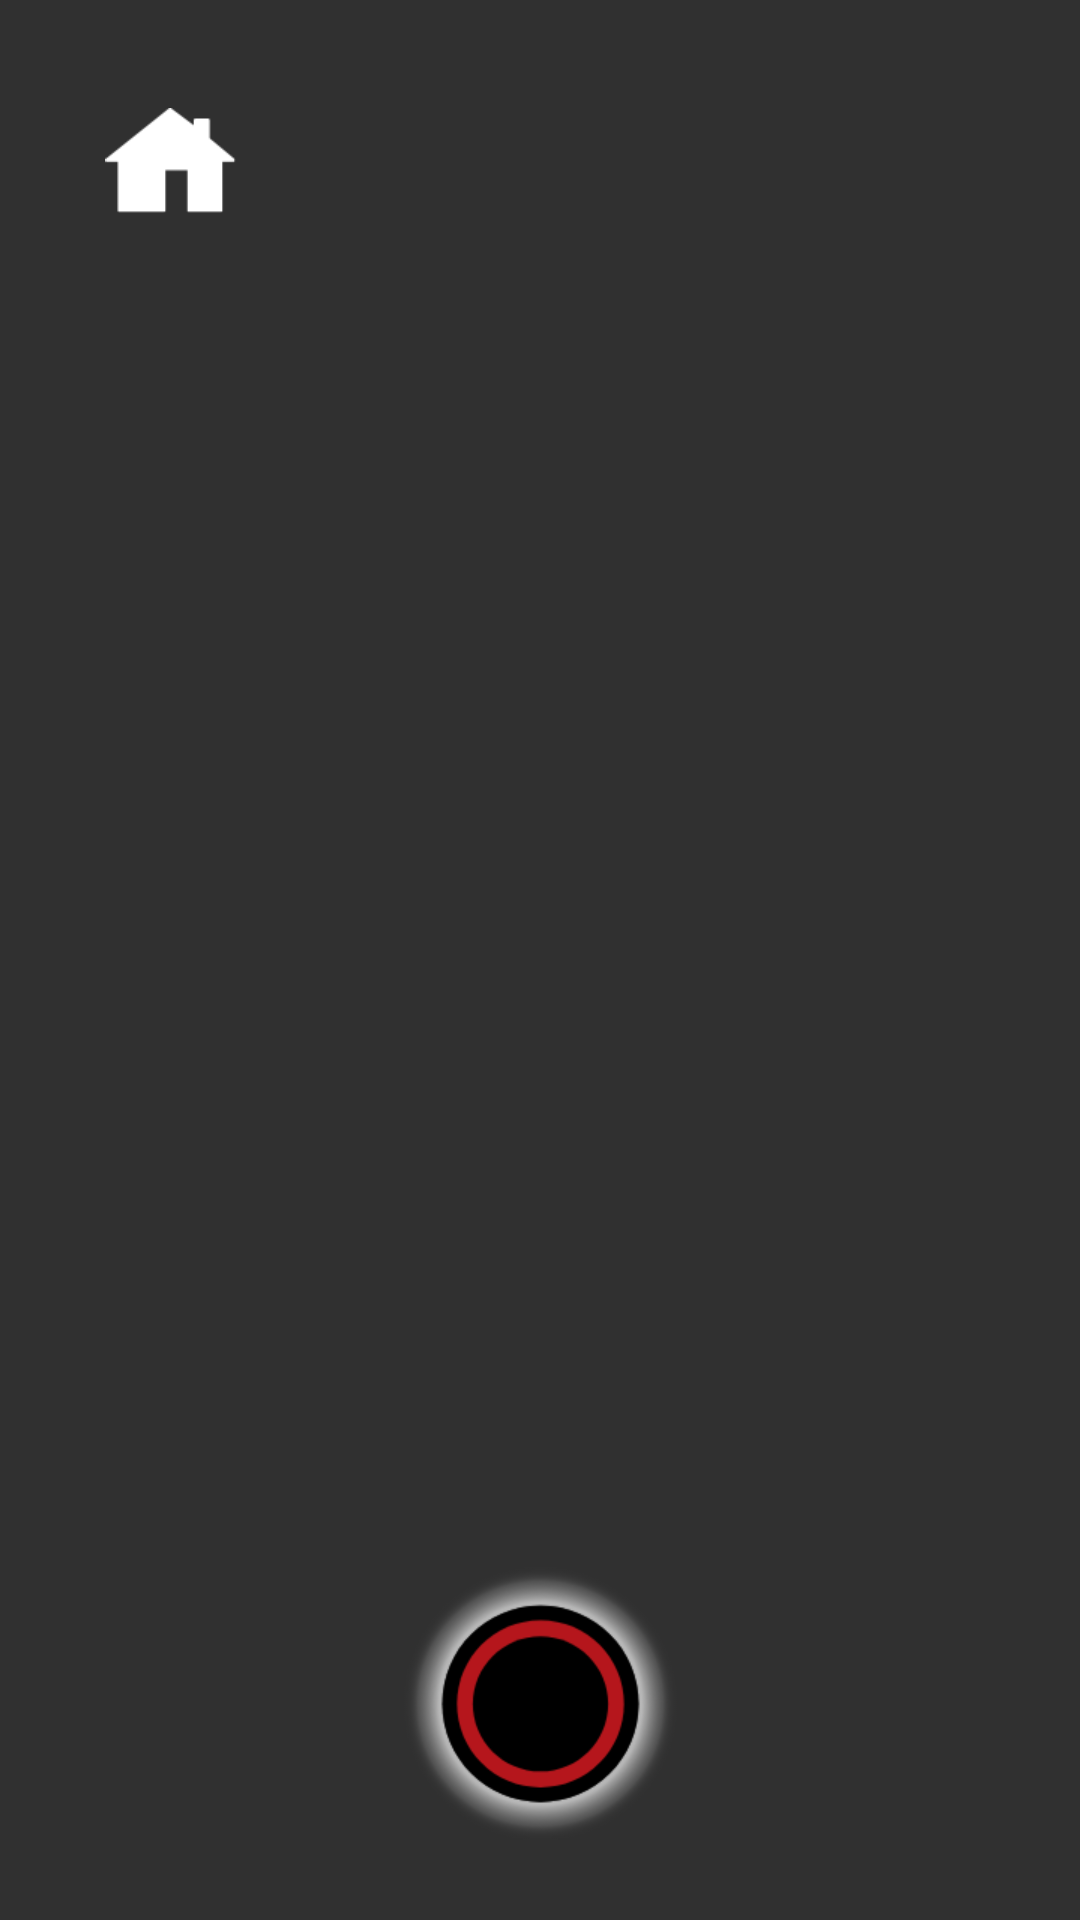

Named icons in this screenshot (1080 x 1920) and their centers, [x,y]:
house: [170,160]
